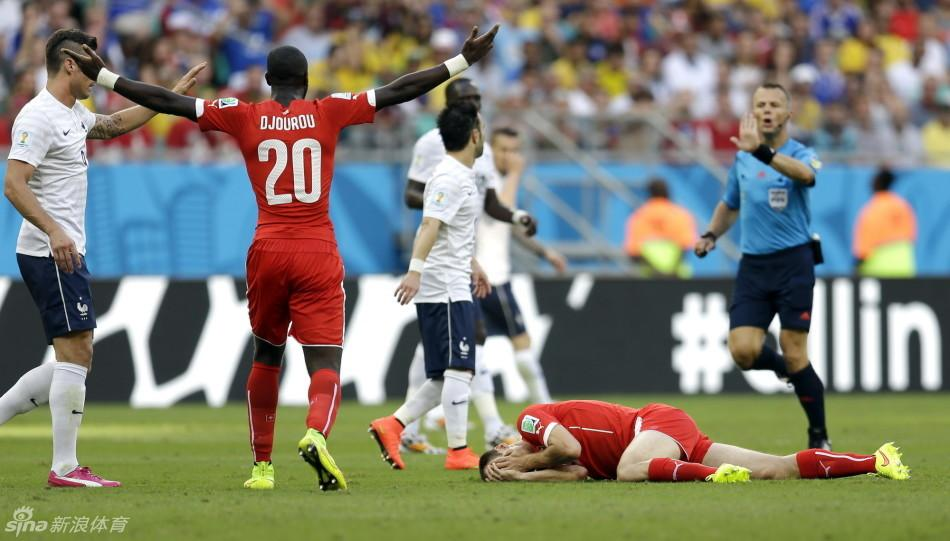down: (459, 400, 908, 495)
up: (204, 36, 360, 503), (1, 27, 135, 497), (701, 68, 840, 452), (376, 97, 498, 467)
